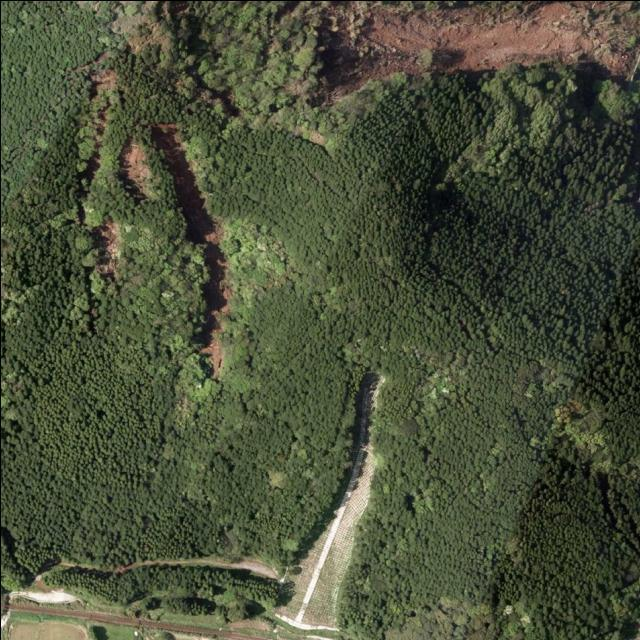landslide: (320, 0, 640, 92), (149, 122, 230, 379), (120, 140, 148, 199)
